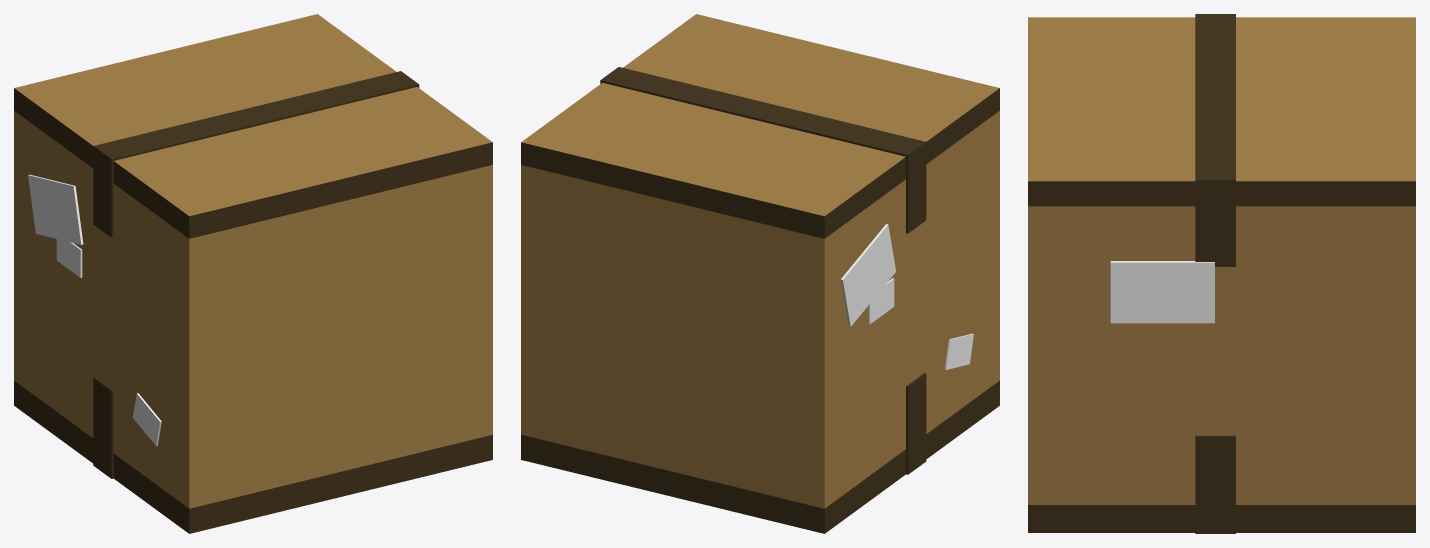
Rendered from carton 1 (1).FBX.
3 views of the same model, side by side, from view 1: azimuth 30°, elevation 25°; view 2: azimuth 150°, elevation 25°; view 3: azimuth 270°, elevation 25° (orthographic). The views are drawn at different scales.
Parts seen in each view (by area): view 1: carton1; view 2: carton1; view 3: carton1.
Part boxes in pixels (x1,y1,x2,y2): carton1: [14, 14, 492, 533]; carton1: [521, 14, 999, 533]; carton1: [1028, 14, 1415, 533].
Bounding box in the file's own units: 143 × 141 × 140.
